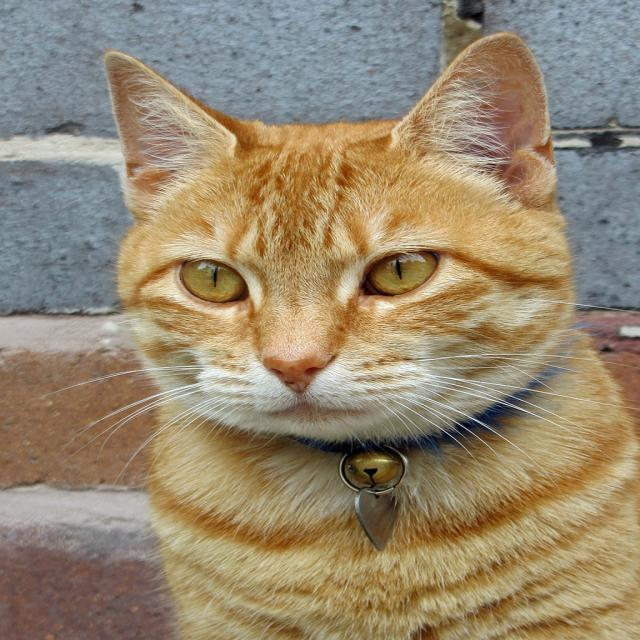Cat: (18, 31, 639, 640)
